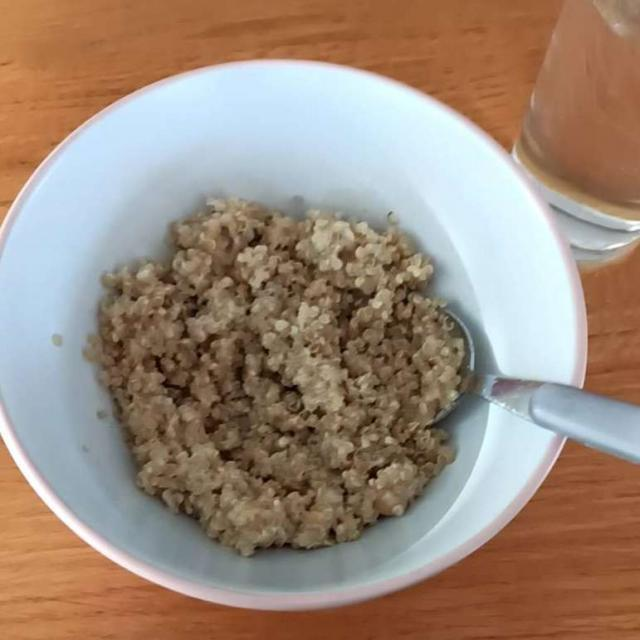quinoa: (98, 198, 468, 549)
water: (511, 11, 634, 245)
